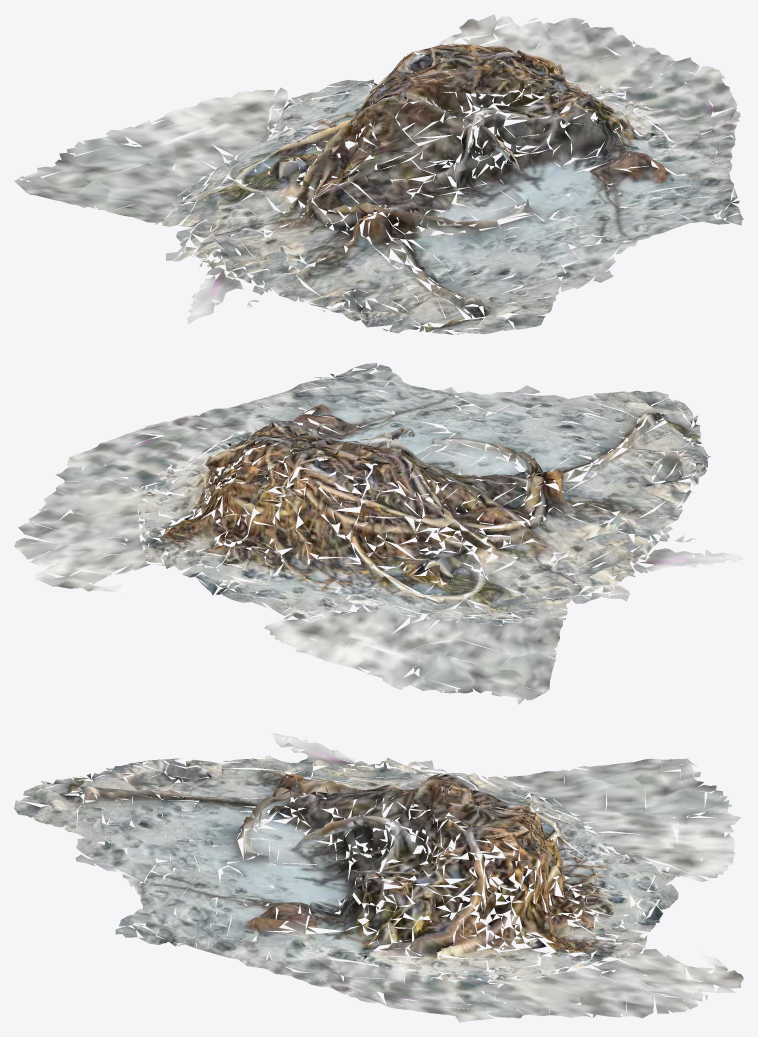
File: alga.glb
3 renders of one model, top to bottom at view 1: azimuth 30°, elevation 25°; view 2: azimuth 150°, elevation 25°; view 3: azimuth 270°, elevation 25°, orthographic. The views are drawn at different scales.
Parts seen in each view (by area): view 1: alga; view 2: alga; view 3: alga.
Boxes of the visible parts, x1,y1,x2,y2 form: alga: (14, 14, 743, 334); alga: (14, 363, 743, 704); alga: (14, 733, 743, 1022).
Size of the model in its own units: 7.86 by 1.42 by 7.66.
Materials: 1 (1 with a texture image).
